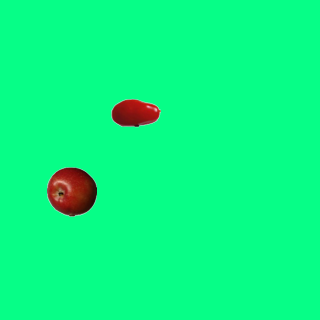Apple Braeburn: (46, 166, 96, 216)
Tomato 2: (110, 87, 160, 137)
